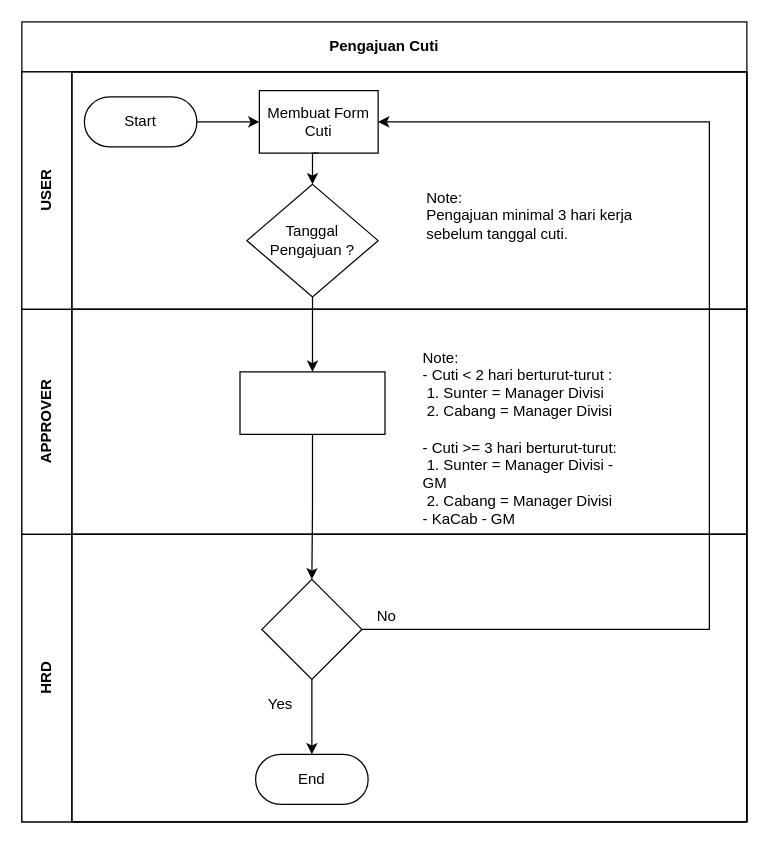
This 769x844 diagram has some shape labels left out. Each missing label, with the box of its shape:
Approved ?: (261, 578, 362, 679)
Workflow Approval Cuti: (239, 371, 385, 434)
